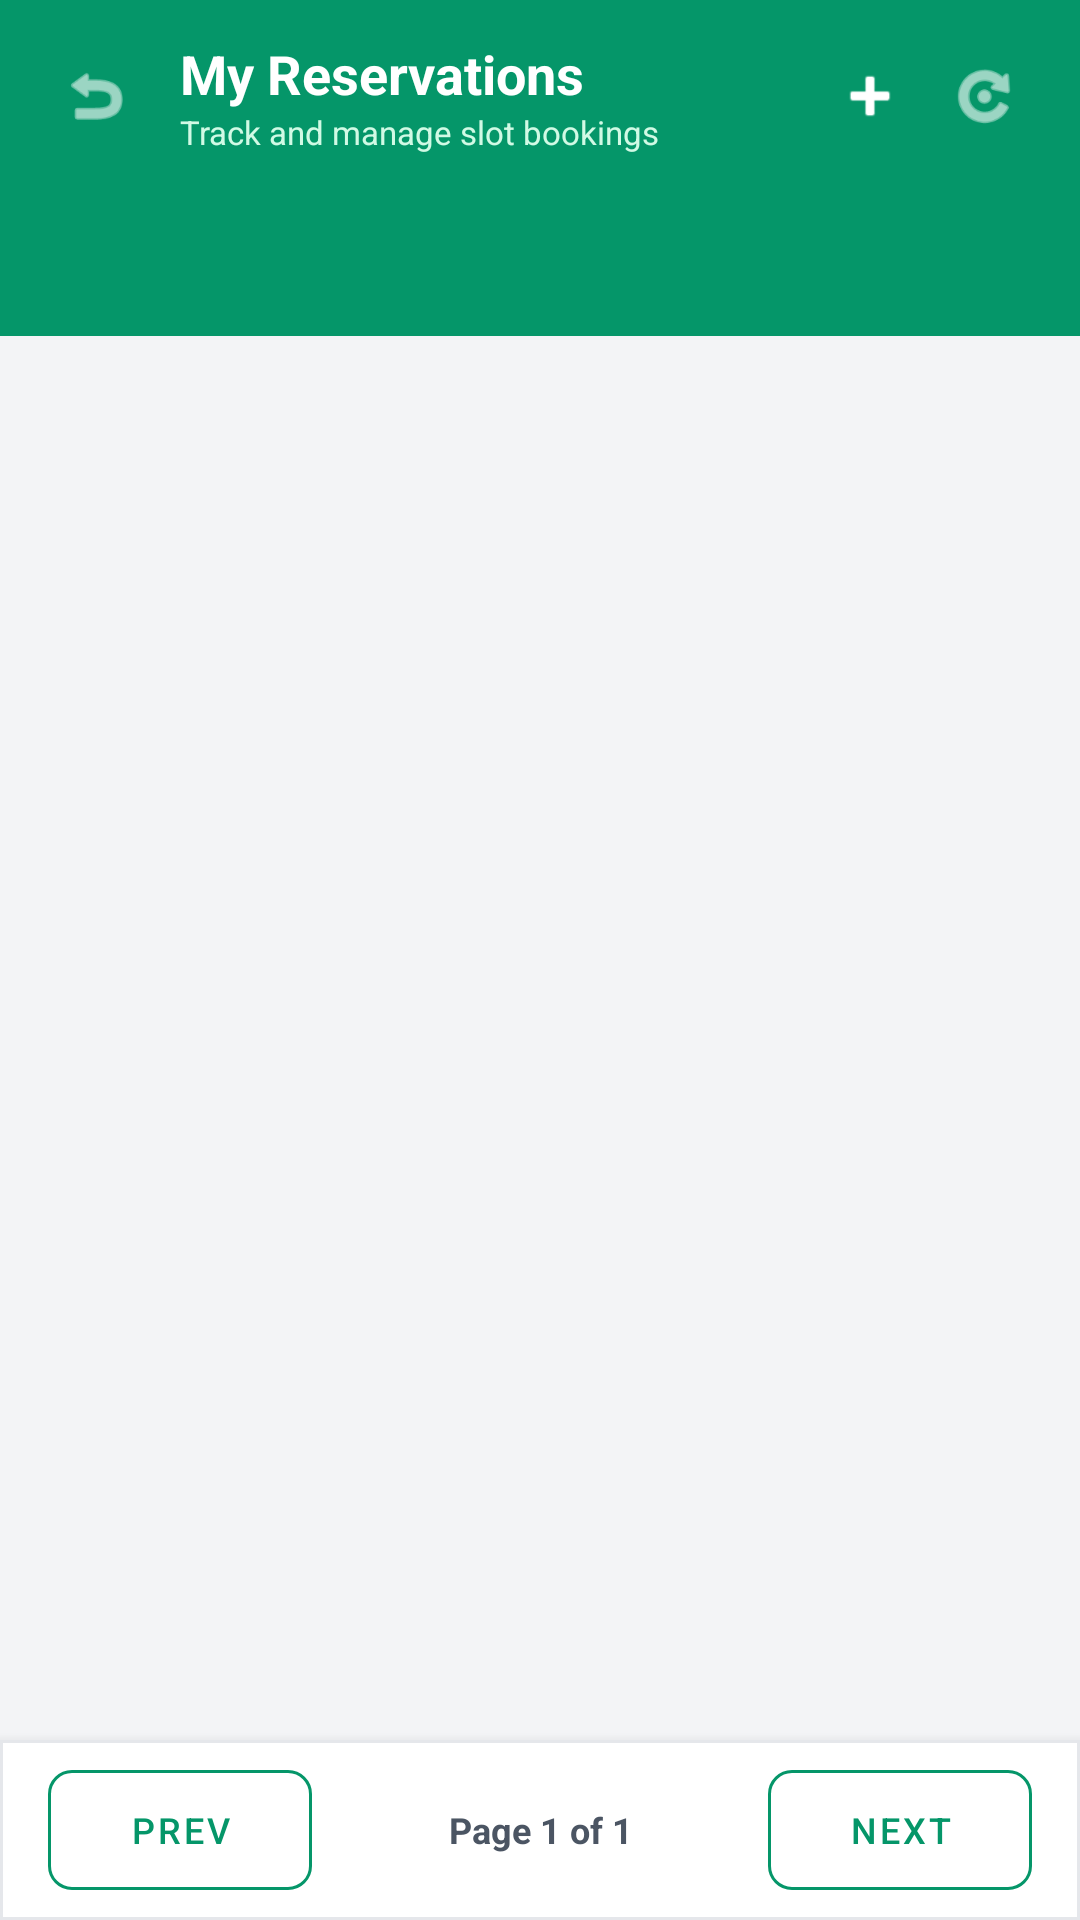

Point at icon controls on the screen. Image size 1080x1920, points as (x,y).
add: (870,96)
revert: (97,96)
rotate: (984,96)
